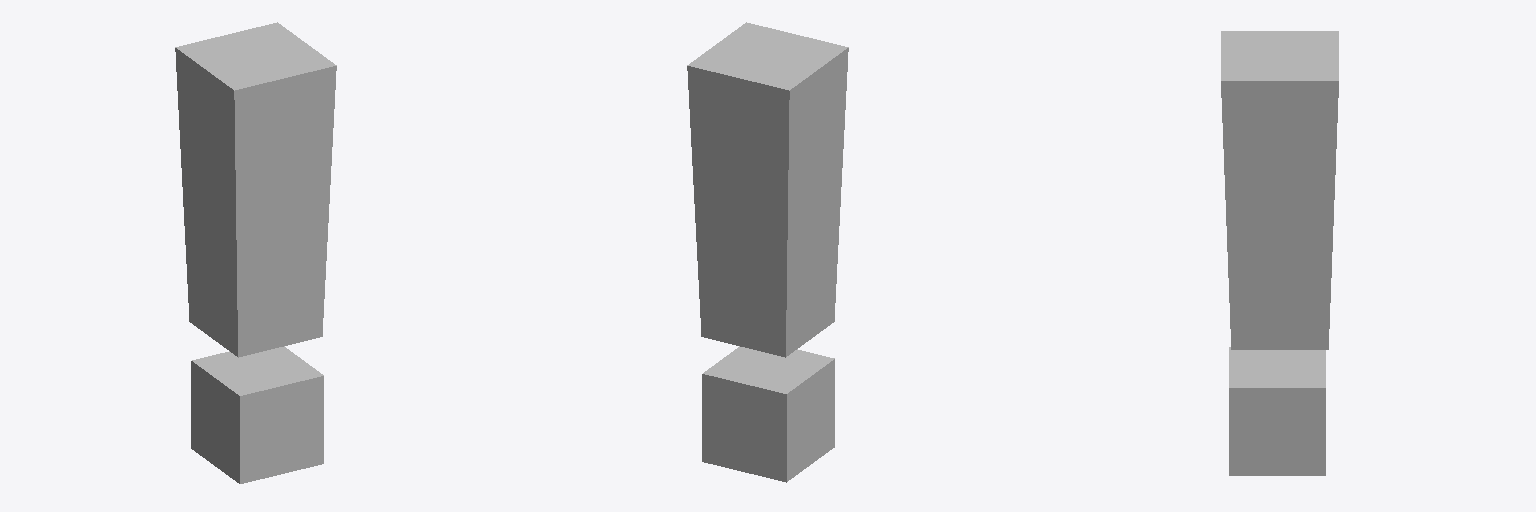
The model's file is Exclamation.obj.
The picture shows the model from 3 angles: view 1: azimuth 30°, elevation 25°; view 2: azimuth 150°, elevation 25°; view 3: azimuth 270°, elevation 25°; orthographic projection.
Visible parts, largest first — view 1: Cube.001, Cube; view 2: Cube.001, Cube; view 3: Cube.001, Cube.
Part boxes in pixels (left/top/right/bottom): Cube.001: left=175, top=22, right=336, bottom=357; Cube: left=191, top=346, right=323, bottom=483; Cube.001: left=687, top=22, right=848, bottom=357; Cube: left=702, top=346, right=834, bottom=482; Cube.001: left=1221, top=31, right=1338, bottom=349; Cube: left=1229, top=347, right=1325, bottom=475.
Bounding box in the file's own units: 2.43 × 9.04 × 2.43.